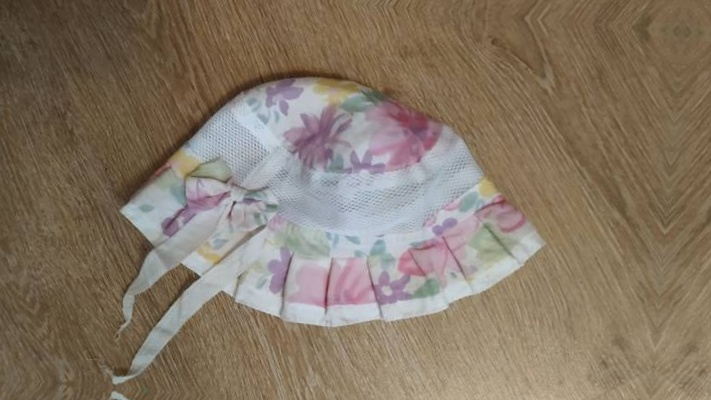Hat: (73, 30, 578, 387)
